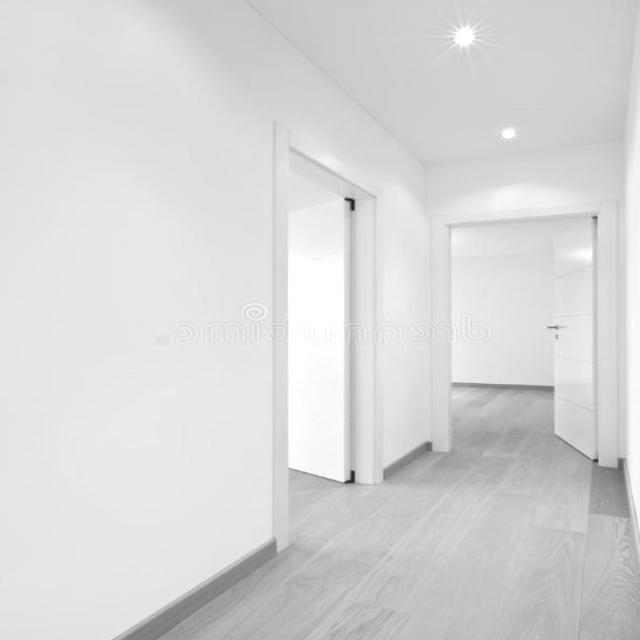door: (536, 210, 610, 463)
